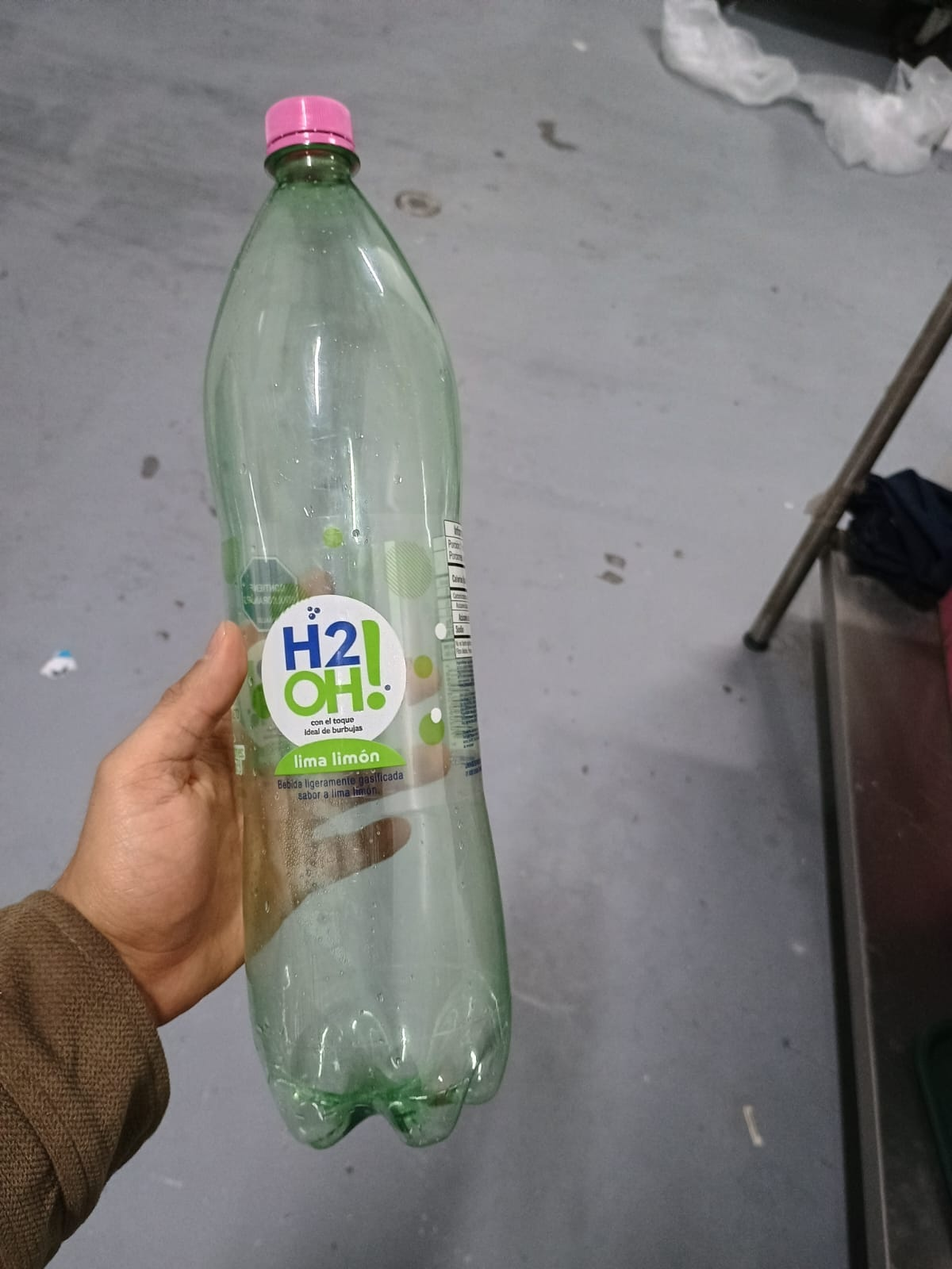Plastico: (200, 97, 515, 1152)
